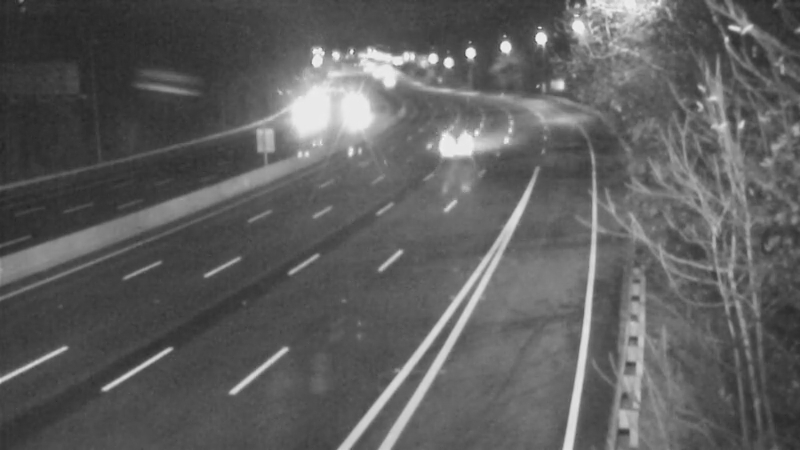vehicle: (426, 119, 476, 169), (280, 85, 330, 135), (331, 90, 381, 140)
